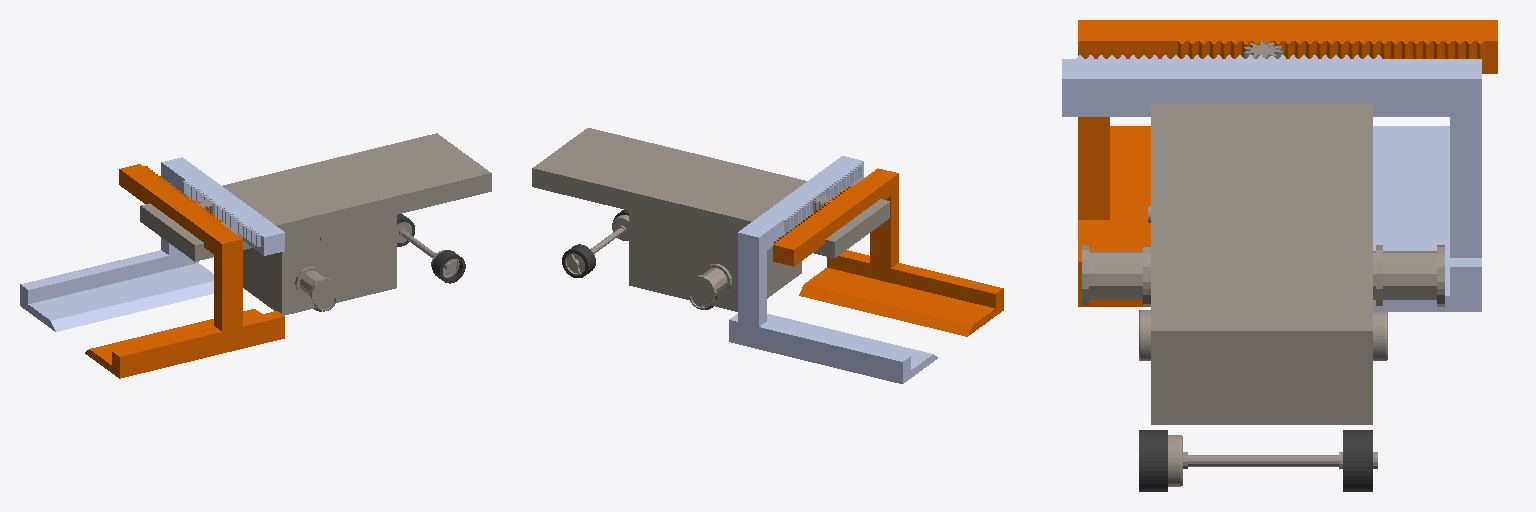
URDF robot description (rocr):
<?xml version="1.0" encoding="utf-8"?>
<!-- =================================================================================== -->
<!-- |    This document was autogenerated by xacro from [local-path]/catkin_ws/src/rocr/urdf/rocr_integration.urdf.xacro | -->
<!-- |    EDITING THIS FILE BY HAND IS NOT RECOMMENDED                                 | -->
<!-- =================================================================================== -->
<!-- Name your robot here -->
<robot name="rocr">
  <link name="dummy_link">
  </link>
  <joint name="dummy_joint" type="fixed">
    <parent link="dummy_link"/>
    <child link="base_link"/>
  </joint>
  <link name="base_link">
    <inertial>
      <origin rpy="0 0 0" xyz="-0.107763369330454 -0.0445 -0.020198432861837"/>
      <mass value="10.6823173170711"/>
      <inertia ixx="0.0124898425373309" ixy="2.0561115126567E-18" ixz="0.00348506285187222" iyy="0.0524375502212246" iyz="-4.72546868397655E-19" izz="0.0537557242577893"/>
    </inertial>
    <visual>
      <origin rpy="0 0 0" xyz="0 0 0"/>
      <geometry>
        <mesh filename="package://rocr/meshes/base_link.STL"/>
      </geometry>
      <material name="">
        <color rgba="0.650980392156863 0.619607843137255 0.588235294117647 1"/>
      </material>
    </visual>
    <collision>
      <origin rpy="0 0 0" xyz="0 0 0"/>
      <geometry>
        <mesh filename="package://rocr/meshes/base_link.STL"/>
      </geometry>
    </collision>
  </link>
  <link name="link_rear_axle">
    <inertial>
      <origin rpy="0 0 0" xyz="0 0 0.0445"/>
      <mass value="0.0146411571669772"/>
      <inertia ixx="1.13609366067351E-05" ixy="0" ixz="1.26346979435413E-23" iyy="1.13609366067351E-05" iyz="-1.65728313351587E-23" izz="4.93095849258961E-08"/>
    </inertial>
    <visual>
      <origin rpy="0 0 0" xyz="0 0 0"/>
      <geometry>
        <mesh filename="package://rocr/meshes/link_rear_axle.STL"/>
      </geometry>
      <material name="">
        <color rgba="0.650980392156863 0.619607843137255 0.588235294117647 1"/>
      </material>
    </visual>
    <collision>
      <origin rpy="0 0 0" xyz="0 0 0"/>
      <geometry>
        <mesh filename="package://rocr/meshes/link_rear_axle.STL"/>
      </geometry>
    </collision>
  </link>
  <joint name="joint_rear_axle" type="revolute">
    <origin rpy="1.5707963267949 0.707024824141767 0" xyz="-0.04 0 -0.0616"/>
    <parent link="base_link"/>
    <child link="link_rear_axle"/>
    <axis xyz="0 0 1"/>
    
          xyz=&quot;1 0 0&quot; /&gt;
    
    <limit effort="10" lower="-1000000" upper="20" velocity="100"/>
  </joint>
  <link name="link_rear_right_rim">
    <inertial>
      <origin rpy="0 0 0" xyz="3.46944695195361E-18 1.38777878078145E-17 0.00350223742057503"/>
      <mass value="0.0118944183288657"/>
      <inertia ixx="3.8555482465904E-07" ixy="2.64697796016969E-23" ixz="-1.45395901677307E-23" iyy="3.8555482465904E-07" iyz="1.02049206590916E-23" izz="7.15729172321272E-07"/>
    </inertial>
    <visual>
      <origin rpy="0 0 0" xyz="0 0 0"/>
      <geometry>
        <mesh filename="package://rocr/meshes/link_rear_right_rim.STL"/>
      </geometry>
      <material name="">
        <color rgba="0.650980392156863 0.619607843137255 0.588235294117647 1"/>
      </material>
    </visual>
    <collision>
      <origin rpy="0 0 0" xyz="0 0 0"/>
      <geometry>
        <mesh filename="package://rocr/meshes/link_rear_right_rim.STL"/>
      </geometry>
    </collision>
  </link>
  <joint name="joint_rear_right_rim" type="fixed">
    <origin rpy="0 0 0.24991380443404" xyz="0 0 0"/>
    <parent link="link_rear_axle"/>
    <child link="link_rear_right_rim"/>
    <axis xyz="0 0 0"/>
  </joint>
  <link name="link_rear_right_tyre">
    <inertial>
      <origin rpy="0 0 0" xyz="0 0 0.00299999999999996"/>
      <mass value="0.000894793246519237"/>
      <inertia ixx="6.20496114930369E-08" ixy="6.61744490042422E-24" ixz="-3.89029256642903E-39" iyy="6.20496114930369E-08" iyz="-1.79628849182962E-38" izz="1.18468076093197E-07"/>
    </inertial>
    <visual>
      <origin rpy="0 0 0" xyz="0 0 0"/>
      <geometry>
        <mesh filename="package://rocr/meshes/link_rear_right_tyre.STL"/>
      </geometry>
      <material name="">
        <color rgba="0.298039215686275 0.298039215686275 0.298039215686275 1"/>
      </material>
    </visual>
    <collision>
      <origin rpy="0 0 0" xyz="0 0 0"/>
      <geometry>
        <mesh filename="package://rocr/meshes/link_rear_right_tyre.STL"/>
      </geometry>
    </collision>
  </link>
  <joint name="joint_rear_right_tyre" type="fixed">
    <origin rpy="0 0 2.8695961764224" xyz="0 0 0"/>
    <parent link="link_rear_right_rim"/>
    <child link="link_rear_right_tyre"/>
    <axis xyz="0 0 0"/>
  </joint>
  <link name="link_rear_left_rim">
    <inertial>
      <origin rpy="0 0 0" xyz="6.93889390390723E-18 -1.38777878078145E-17 0.00350223742057505"/>
      <mass value="0.0118944183288657"/>
      <inertia ixx="3.8555482465904E-07" ixy="-5.29395592033938E-23" ixz="5.49663272826212E-24" iyy="3.8555482465904E-07" iyz="1.08491688019404E-23" izz="7.15729172321273E-07"/>
    </inertial>
    <visual>
      <origin rpy="0 0 0" xyz="0 0 0"/>
      <geometry>
        <mesh filename="package://rocr/meshes/link_rear_left_rim.STL"/>
      </geometry>
      <material name="">
        <color rgba="0.650980392156863 0.619607843137255 0.588235294117647 1"/>
      </material>
    </visual>
    <collision>
      <origin rpy="0 0 0" xyz="0 0 0"/>
      <geometry>
        <mesh filename="package://rocr/meshes/link_rear_left_rim.STL"/>
      </geometry>
    </collision>
  </link>
  <joint name="joint_rear_left_rim" type="fixed">
    <origin rpy="3.14159265358979 0 -0.351698544940136" xyz="0 0 0.089"/>
    <parent link="link_rear_axle"/>
    <child link="link_rear_left_rim"/>
    <axis xyz="0 0 0"/>
  </joint>
  <link name="link_rear_left_tyre">
    <inertial>
      <origin rpy="0 0 0" xyz="6.93889390390723E-18 0 0.00300000000000003"/>
      <mass value="0.000894793246519235"/>
      <inertia ixx="6.20496114930378E-08" ixy="-1.98523347012727E-23" ixz="-5.56094918884781E-25" iyy="6.20496114930379E-08" iyz="-2.52617851034184E-25" izz="1.18468076093197E-07"/>
    </inertial>
    <visual>
      <origin rpy="0 0 0" xyz="0 0 0"/>
      <geometry>
        <mesh filename="package://rocr/meshes/link_rear_left_tyre.STL"/>
      </geometry>
      <material name="">
        <color rgba="0.298039215686275 0.298039215686275 0.298039215686275 1"/>
      </material>
    </visual>
    <collision>
      <origin rpy="0 0 0" xyz="0 0 0"/>
      <geometry>
        <mesh filename="package://rocr/meshes/link_rear_left_tyre.STL"/>
      </geometry>
    </collision>
  </link>
  <joint name="joint_rear_left_tyre" type="fixed">
    <origin rpy="3.14159265358979 0 3.14159265358979" xyz="0 0 0.00600000000000001"/>
    <parent link="link_rear_left_rim"/>
    <child link="link_rear_left_tyre"/>
    <axis xyz="0 0 0"/>
  </joint>
  <link name="link_front_left_axle">
    <inertial>
      <origin rpy="0 0 0" xyz="0.00270396295698487 0.0145761689294997 2.00947993522771E-08"/>
      <mass value="0.00966461047960184"/>
      <inertia ixx="1.11429036688313E-06" ixy="-3.24714972635315E-07" ixz="1.00513407596102E-12" iyy="3.11973757673527E-07" iyz="-6.77610616845446E-13" izz="1.36027548192717E-06"/>
    </inertial>
    <visual>
      <origin rpy="0 0 0" xyz="0 0 0"/>
      <geometry>
        <mesh filename="package://rocr/meshes/link_front_left_axle.STL"/>
      </geometry>
      <material name="">
        <color rgba="0.650980392156863 0.619607843137255 0.588235294117647 1"/>
      </material>
    </visual>
    <collision>
      <origin rpy="0 0 0" xyz="0 0 0"/>
      <geometry>
        <mesh filename="package://rocr/meshes/link_front_left_axle.STL"/>
      </geometry>
    </collision>
  </link>
  <joint name="joint_front_left_axle" type="revolute">
    <origin rpy="-1.5708 0 -1.5708" xyz="-0.16 -0.074 -0.0346"/>
    <parent link="base_link"/>
    <child link="link_front_left_axle"/>
    <axis xyz="0 1 0"/>
    <limit effort="10" lower="-0.35" upper="0.35" velocity="0"/>
  </joint>
  <link name="link_front_left_rim">
    <inertial>
      <origin rpy="0 0 0" xyz="-6.93889390390723E-18 0 -0.00249776257942494"/>
      <mass value="0.0118944183288657"/>
      <inertia ixx="3.8555482465904E-07" ixy="3.97046694025453E-23" ixz="-3.31313501905856E-24" iyy="3.8555482465904E-07" iyz="-2.24125743469391E-23" izz="7.15729172321273E-07"/>
    </inertial>
    <visual>
      <origin rpy="0 0 0" xyz="0 0 0"/>
      <geometry>
        <mesh filename="package://rocr/meshes/link_front_left_rim.STL"/>
      </geometry>
      <material name="">
        <color rgba="0.650980392156863 0.619607843137255 0.588235294117647 1"/>
      </material>
    </visual>
    <collision>
      <origin rpy="0 0 0" xyz="0 0 0"/>
      <geometry>
        <mesh filename="package://rocr/meshes/link_front_left_rim.STL"/>
      </geometry>
    </collision>
  </link>
  <joint name="joint_front_left_rim" type="continuous">
    <origin rpy="-1.5708 -0.51596 1.5708" xyz="0.009 0.027 0"/>
    <parent link="link_front_left_axle"/>
    <child link="link_front_left_rim"/>
    <axis xyz="0 0 1"/>
  </joint>
  <link name="link_front_left_tyre">
    <inertial>
      <origin rpy="0 0 0" xyz="-1.38777878078145E-17 -2.77555756156289E-17 0.00299999999999996"/>
      <mass value="0.000894793246519236"/>
      <inertia ixx="6.20496114930359E-08" ixy="2.06795153138257E-25" ixz="-1.53217789333394E-24" iyy="6.20496114930359E-08" iyz="1.57055578166012E-24" izz="1.18468076093197E-07"/>
    </inertial>
    <visual>
      <origin rpy="0 0 0" xyz="0 0 0"/>
      <geometry>
        <mesh filename="package://rocr/meshes/link_front_left_tyre.STL"/>
      </geometry>
      <material name="">
        <color rgba="0.298039215686275 0.298039215686275 0.298039215686275 1"/>
      </material>
    </visual>
    <collision>
      <origin rpy="0 0 0" xyz="0 0 0"/>
      <geometry>
        <mesh filename="package://rocr/meshes/link_front_left_tyre.STL"/>
      </geometry>
    </collision>
  </link>
  <joint name="joint_front_left_tyre" type="fixed">
    <origin rpy="0 0 0.53015" xyz="0 0 -0.006"/>
    <parent link="link_front_left_rim"/>
    <child link="link_front_left_tyre"/>
    <axis xyz="0 0 0"/>
  </joint>
  <link name="link_front_right_axle">
    <inertial>
      <origin rpy="0 0 0" xyz="0.00270396295698512 -0.0145761689294997 -2.00545071105118E-08"/>
      <mass value="0.00966461047960182"/>
      <inertia ixx="1.11429036688316E-06" ixy="3.24714972635325E-07" ixz="-1.0087995397342E-12" iyy="3.11973757673527E-07" iyz="-6.72771986841547E-13" izz="1.36027548192714E-06"/>
    </inertial>
    <visual>
      <origin rpy="0 0 0" xyz="0 0 0"/>
      <geometry>
        <mesh filename="package://rocr/meshes/link_front_right_axle.STL"/>
      </geometry>
      <material name="">
        <color rgba="0.650980392156863 0.619607843137255 0.588235294117647 1"/>
      </material>
    </visual>
    <collision>
      <origin rpy="0 0 0" xyz="0 0 0"/>
      <geometry>
        <mesh filename="package://rocr/meshes/link_front_right_axle.STL"/>
      </geometry>
    </collision>
  </link>
  <joint name="joint_front_right_axle" type="revolute">
    <origin rpy="1.5708 0 1.5708" xyz="-0.16 -0.015 -0.0346"/>
    <parent link="base_link"/>
    <child link="link_front_right_axle"/>
    <axis xyz="0 1 0"/>
    <limit effort="10" lower="-0.35" upper="0.35" velocity="0"/>
  </joint>
  <link name="link_front_right_rim">
    <inertial>
      <origin rpy="0 0 0" xyz="0 2.77555756156289E-17 -0.00249776257942494"/>
      <mass value="0.0118944183288657"/>
      <inertia ixx="3.8555482465904E-07" ixy="2.64697796016969E-23" ixz="-1.32914790198409E-23" iyy="3.8555482465904E-07" iyz="7.73663340838489E-23" izz="7.15729172321272E-07"/>
    </inertial>
    <visual>
      <origin rpy="0 0 0" xyz="0 0 0"/>
      <geometry>
        <mesh filename="package://rocr/meshes/link_front_right_rim.STL"/>
      </geometry>
      <material name="">
        <color rgba="0.650980392156863 0.619607843137255 0.588235294117647 1"/>
      </material>
    </visual>
    <collision>
      <origin rpy="0 0 0" xyz="0 0 0"/>
      <geometry>
        <mesh filename="package://rocr/meshes/link_front_right_rim.STL"/>
      </geometry>
    </collision>
  </link>
  <joint name="joint_front_right_rim" type="continuous">
    <origin rpy="1.5708 0.2483 -1.5708" xyz="0.009 -0.027 0"/>
    <parent link="link_front_right_axle"/>
    <child link="link_front_right_rim"/>
    <axis xyz="0 0 1"/>
  </joint>
  <link name="link_front_right_tyre">
    <inertial>
      <origin rpy="0 0 0" xyz="4.16333634234434E-17 5.55111512312578E-17 0.00300000000000004"/>
      <mass value="0.000894793246519238"/>
      <inertia ixx="6.20496114930386E-08" ixy="8.27180612553028E-24" ixz="-9.85845765142739E-24" iyy="6.20496114930386E-08" iyz="-3.67768332437104E-24" izz="1.18468076093197E-07"/>
    </inertial>
    <visual>
      <origin rpy="0 0 0" xyz="0 0 0"/>
      <geometry>
        <mesh filename="package://rocr/meshes/link_front_right_tyre.STL"/>
      </geometry>
      <material name="">
        <color rgba="0.298039215686275 0.298039215686275 0.298039215686275 1"/>
      </material>
    </visual>
    <collision>
      <origin rpy="0 0 0" xyz="0 0 0"/>
      <geometry>
        <mesh filename="package://rocr/meshes/link_front_right_tyre.STL"/>
      </geometry>
    </collision>
  </link>
  <joint name="joint_front_right_tyre" type="fixed">
    <origin rpy="0 0 1.197" xyz="0 0 -0.006"/>
    <parent link="link_front_right_rim"/>
    <child link="link_front_right_tyre"/>
    <axis xyz="0 0 0"/>
  </joint>
  <link name="link_bolt">
    <inertial>
      <origin rpy="0 0 0" xyz="-2.77555756156289E-17 0.0128023255813953 6.93889390390723E-18"/>
      <mass value="0.00416072537417608"/>
      <inertia ixx="4.19328846959819E-07" ixy="2.23263697890707E-24" ixz="1.59232270356641E-24" iyy="1.99327773739599E-08" iyz="-7.92420384475019E-24" izz="4.19328846959819E-07"/>
    </inertial>
    <visual>
      <origin rpy="0 0 0" xyz="0 0 0"/>
      <geometry>
        <mesh filename="package://rocr/meshes/link_bolt.STL"/>
      </geometry>
      <material name="">
        <color rgba="0.650980392156863 0.619607843137255 0.588235294117647 1"/>
      </material>
    </visual>
    <collision>
      <origin rpy="0 0 0" xyz="0 0 0"/>
      <geometry>
        <mesh filename="package://rocr/meshes/link_bolt.STL"/>
      </geometry>
    </collision>
  </link>
  <joint name="joint_bolt" type="fixed">
    <origin rpy="1.5708 0 0" xyz="-0.24602 -0.0445 0"/>
    <parent link="base_link"/>
    <child link="link_bolt"/>
    <axis xyz="0 0 0"/>
  </joint>
  <link name="link_pinion">
    <inertial>
      <origin rpy="0 0 0" xyz="3.24740234702858E-15 0.00513746055677001 -6.38378239159465E-16"/>
      <mass value="0.00960832828739317"/>
      <inertia ixx="2.2820836728479E-07" ixy="-1.84999399159911E-22" ixz="2.80827817961753E-22" iyy="2.76785845733431E-07" iyz="-1.29070812904103E-22" izz="2.2820836728479E-07"/>
    </inertial>
    <visual>
      <origin rpy="0 0 0" xyz="0 0 0"/>
      <geometry>
        <mesh filename="package://rocr/meshes/link_pinion.STL"/>
      </geometry>
      <material name="">
        <color rgba="0.650980392156863 0.619607843137255 0.588235294117647 1"/>
      </material>
    </visual>
    <collision>
      <origin rpy="0 0 0" xyz="0 0 0"/>
      <geometry>
        <mesh filename="package://rocr/meshes/link_pinion.STL"/>
      </geometry>
    </collision>
  </link>
  <joint name="joint_pinion" type="fixed">
    <origin rpy="-3.1416 -1.5555 3.1416" xyz="0 0.015 0"/>
    <parent link="link_bolt"/>
    <child link="link_pinion"/>
    <axis xyz="0 0 0"/>
  </joint>
  <link name="link_right_arm">
    <inertial>
      <origin rpy="0 0 0" xyz="0.104396682675735 0.04006318032966 0.0408822601960999"/>
      <mass value="1.22458311377959"/>
      <inertia ixx="0.0043934448902123" ixy="-0.00144762759837531" ixz="-0.000861183508602767" iyy="0.0051277316900128" iyz="-0.00133405721864268" izz="0.00471548799195523"/>
    </inertial>
    <visual>
      <origin rpy="0 0 0" xyz="0 0 0"/>
      <geometry>
        <mesh filename="package://rocr/meshes/link_right_arm.STL"/>
      </geometry>
      <material name="">
        <color rgba="0.792156862745098 0.819607843137255 0.933333333333333 1"/>
      </material>
    </visual>
    <collision>
      <origin rpy="0 0 0" xyz="0 0 0"/>
      <geometry>
        <mesh filename="package://rocr/meshes/link_right_arm.STL"/>
      </geometry>
    </collision>
  </link>
  <joint name="joint_right_arm" type="prismatic">
    <origin rpy="1.5708 0 0" xyz="-0.36753 0.030166 -0.074"/>
    <parent link="base_link"/>
    <child link="link_right_arm"/>
    <axis xyz="0 0 0"/>
    <limit effort="0" lower="0" upper="0" velocity="0"/>
  </joint>
  <link name="link_left_arm">
    <inertial>
      <origin rpy="0 0 0" xyz="-0.0662057984489832 0.0401324506668157 -0.0409363133394734"/>
      <mass value="1.1924981757879"/>
      <inertia ixx="0.00428378099773501" ixy="-0.000654269649461549" ixz="0.000396544891902694" iyy="0.00399903184775616" iyz="0.00130103117009567" izz="0.00359489246372515"/>
    </inertial>
    <visual>
      <origin rpy="0 0 0" xyz="0 0 0"/>
      <geometry>
        <mesh filename="package://rocr/meshes/link_left_arm.STL"/>
      </geometry>
      <material name="">
        <color rgba="0.909803921568627 0.443137254901961 0.0313725490196078 1"/>
      </material>
    </visual>
    <collision>
      <origin rpy="0 0 0" xyz="0 0 0"/>
      <geometry>
        <mesh filename="package://rocr/meshes/link_left_arm.STL"/>
      </geometry>
    </collision>
  </link>
  <joint name="joint_left_arm" type="prismatic">
    <origin rpy="1.5708 0 0" xyz="-0.214 -0.11955 -0.074"/>
    <parent link="base_link"/>
    <child link="link_left_arm"/>
    <axis xyz="0 0 0"/>
    <limit effort="0" lower="0" upper="0" velocity="0"/>
  </joint>
  <transmission name="trans1">
    <type>transmission_interface/SimpleTransmission</type>
    <joint name="joint_rear_axle">
      <hardwareInterface>hardware_interface/EffortJointInterface</hardwareInterface>
    </joint>
    <actuator name="RearEngine">
      <hardwareInterface>hardware_interface/EffortJointInterface</hardwareInterface>
      <mechanicalReduction>1</mechanicalReduction>
    </actuator>
  </transmission>
  <transmission name="trans2">
    <type>transmission_interface/SimpleTransmission</type>
    <joint name="joint_front_left_axle">
      <hardwareInterface>hardware_interface/PositionJointInterface</hardwareInterface>
    </joint>
    <actuator name="F_L_motor_steer">
      <hardwareInterface>hardware_interface/PositionJointInterface</hardwareInterface>
      <mechanicalReduction>1</mechanicalReduction>
    </actuator>
  </transmission>
  <transmission name="trans3">
    <type>transmission_interface/SimpleTransmission</type>
    <joint name="joint_front_right_axle">
      <hardwareInterface>hardware_interface/PositionJointInterface</hardwareInterface>
    </joint>
    <actuator name="F_R_motor_steer">
      <hardwareInterface>hardware_interface/PositionJointInterface</hardwareInterface>
      <mechanicalReduction>1</mechanicalReduction>
    </actuator>
  </transmission>
  <!-- <transmission name="trans4">
    <type>transmission_interface/SimpleTransmission</type>
    <joint name="joint_front_left_rim">
      <hardwareInterface>hardware_interface/EffortJointInterface</hardwareInterface>
    </joint>
    <actuator name="Engine1">
      <hardwareInterface>hardware_interface/EffortJointInterface</hardwareInterface>
      <mechanicalReduction>1</mechanicalReduction>
    </actuator>
  </transmission>
  <transmission name="trans5">
    <type>transmission_interface/SimpleTransmission</type>
    <joint name="joint_front_right_rim">
      <hardwareInterface>hardware_interface/EffortJointInterface</hardwareInterface>
    </joint>
    <actuator name="Engine2">
      <hardwareInterface>hardware_interface/EffortJointInterface</hardwareInterface>
      <mechanicalReduction>1</mechanicalReduction>
    </actuator>
  </transmission> -->
  <link name="base_laser">
    <inertial>
      <origin rpy="0 0 0" xyz="-0.00029774 0.0066667 0.00013047"/>
      <mass value="0.15717"/>
      <inertia ixx="6.7885E-05" ixy="-1.3987E-07" ixz="-8.1554E-07" iyy="0.00013173" iyz="-9.0932E-08" izz="7.1972E-05"/>
    </inertial>
    <visual>
      <origin rpy="0 0 0" xyz="0 0 0"/>
      <geometry>
        <mesh filename="[local-path]/catkin_ws/src/rocr/meshes/ydlidar.dae"/>
      </geometry>
      <material name="">
        <color rgba="0.64706 0.61961 0.58824 1"/>
      </material>
    </visual>
    <collision>
      <origin rpy="0 0 0" xyz="0 0 0"/>
      <geometry>
        <mesh filename="[local-path]/catkin_ws/src/rocr/meshes/ydlidar.dae"/>
      </geometry>
    </collision>
  </link>
  <link name="laser_frame">
    <inertial>
      <origin rpy="0 0 0" xyz="-0.00036659 0.00064155 -0.00027052"/>
      <mass value="0.25482"/>
      <inertia ixx="8.9194E-05" ixy="1.8116E-07" ixz="3.6435E-08" iyy="0.00018279" iyz="2.423E-07" izz="0.00011103"/>
    </inertial>
  </link>
  <joint name="laser_joint" type="fixed">
    <origin rpy="0 0 90" xyz="0 0 1"/>
    <parent link="base_laser"/>
    <child link="laser_frame"/>
    <axis xyz="0 0 0"/>
  </joint>
  <!-- Add your gazebo sensors here -->
  <gazebo reference="base_laser">
    <!-- <gravity>true</gravity> -->
    <!-- Gazebo has fixed set of Sensors types. Check them out here <> -->
    <sensor name="laser" type="ray">
      <!-- Add in your sensor characteristics -->
      <pose> 0 0 0 0 0 0 </pose>
      <visualise>true</visualise>
      <update_rate>40</update_rate>
      <!-- <always_on>true</always_on> -->
      <ray>
        <scan>
          <horizontal>
            <samples>720</samples>
            <resolution>1</resolution>
            <min_angle>-1.570796</min_angle>
            <max_angle>1.570796</max_angle>
          </horizontal>
        </scan>
        <range>
          <min>0.10</min>
          <max>30.0</max>
          <resolution>0.01</resolution>
        </range>
        <noise>
          <type>gaussian</type>
          <mean>0.0</mean>
          <stddev>0.01</stddev>
        </noise>
      </ray>
      <plugin filename="libgazebo_ros_laser.so" name="gazebo_ros_head_hokuyo_controller">
        <!-- Use topic name as /my_robot/scan -->
        <topicName>/toycar3/scan</topicName>
        <frameName>laser_frame</frameName>
      </plugin>
    </sensor>
  </gazebo>
  <!-- Add gazebo plugin for control here -->
  <gazebo>
    <plugin filename="libgazebo_ros_control.so" name="gazebo_ros_control">
      <robotNamespace>/toycar3</robotNamespace>
    </plugin>
  </gazebo>
  <!-- Create a joint between your robot and sensor -->
  <joint name="laser_chassis" type="fixed">
    <origin rpy="0 0 3.14" xyz="-0.36 0 0.032"/>
    <parent link="base_link"/>
    <child link="base_laser"/>
  </joint>
</robot>

--- Facts derived from the render (not from the file) ---
Views: 3 orthographic renders of the robot side by side, from view 1: azimuth 30°, elevation 25°; view 2: azimuth 150°, elevation 25°; view 3: azimuth 270°, elevation 25°.
Robot: rocr — 19 links, 18 joints (3 revolute, 2 continuous, 2 prismatic, 11 fixed); root link dummy_link; default pose: every joint at zero.
Links seen in each view (by area): view 1: base_link, link_right_arm, link_left_arm, link_rear_left_tyre; view 2: base_link, link_left_arm, link_right_arm, link_rear_right_tyre; view 3: base_link, link_right_arm, link_left_arm, link_rear_axle, link_rear_right_tyre, link_rear_left_tyre, link_rear_left_rim, link_front_right_rim, link_front_left_rim.
Boxes of the visible links, bbox=[...] form: base_link: bbox=[140, 133, 491, 315]; link_right_arm: bbox=[20, 157, 284, 331]; link_left_arm: bbox=[85, 164, 284, 378]; link_rear_left_tyre: bbox=[432, 250, 465, 283]; base_link: bbox=[532, 128, 889, 311]; link_left_arm: bbox=[773, 168, 1003, 336]; link_right_arm: bbox=[729, 156, 937, 383]; link_rear_right_tyre: bbox=[562, 244, 595, 277]; base_link: bbox=[1082, 104, 1444, 424]; link_right_arm: bbox=[1062, 55, 1481, 311]; link_left_arm: bbox=[1078, 20, 1497, 306]; link_rear_axle: bbox=[1183, 452, 1377, 468]; link_rear_right_tyre: bbox=[1343, 430, 1372, 491]; link_rear_left_tyre: bbox=[1139, 430, 1167, 491]; link_rear_left_rim: bbox=[1168, 435, 1182, 486]; link_front_right_rim: bbox=[1373, 310, 1387, 360]; link_front_left_rim: bbox=[1139, 310, 1150, 360].
Size in the robot's own frame: 0.372 by 0.1763 by 0.1001 metres.
16 mesh visuals loaded from 16 distinct referenced files (16 binary STL); not drawn: 1 (reference in a form the renderer does not follow; not among the files counted above).
